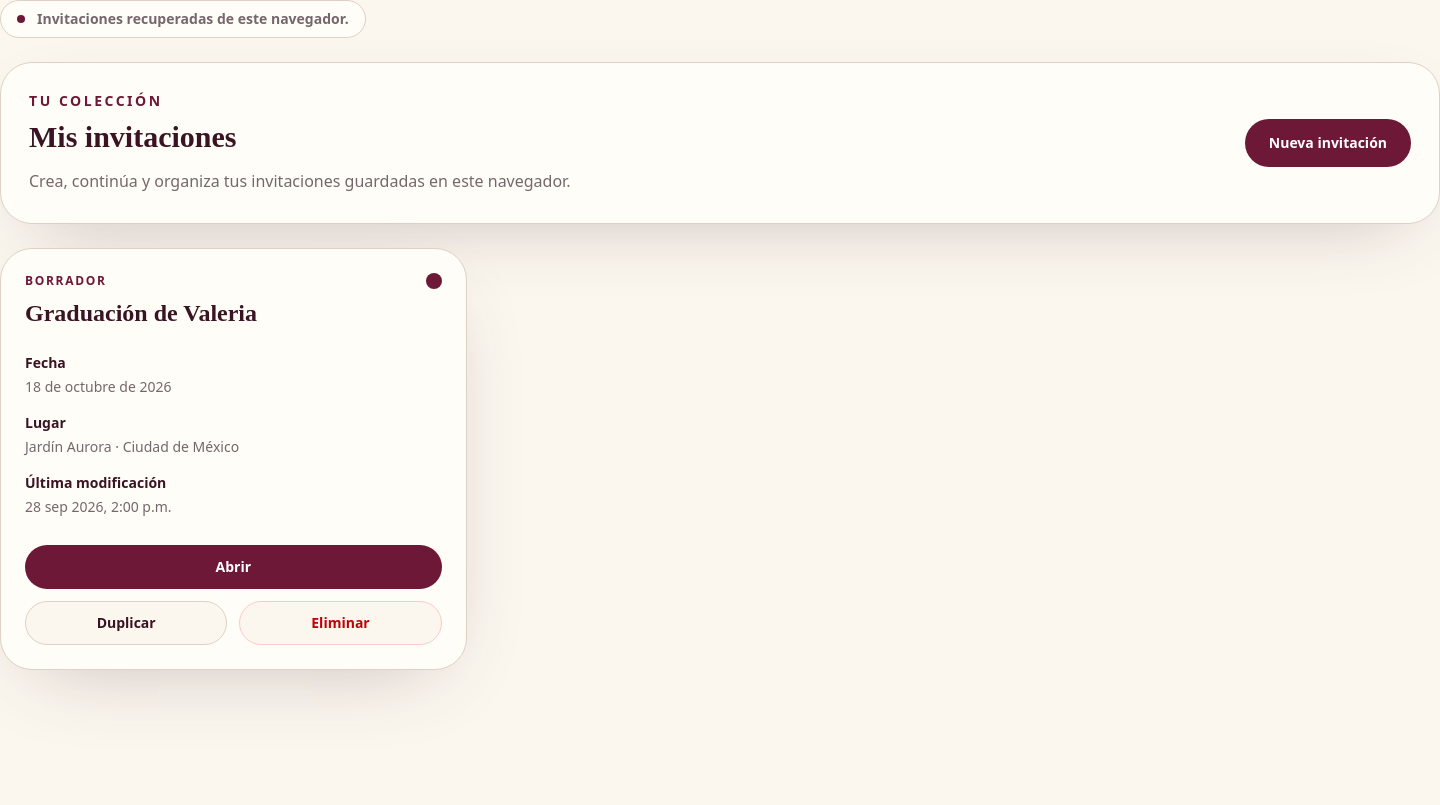
Test: InvitationProjectLibraryWorkspace › restores and opens a previously saved project
This screenshot has width=1440, height=805.
Check: the heading "Graduación de Valeria" is shown, box [25,297,257,329]
Check: the message named "Estado de la biblioteca" reads "Invitaciones recuperadas de este navegador.", box [37,9,349,28]
What coordinates should you click on to do the following:
click the button with aria-label "Abrir Graduación de Valeria"
I would click on:
 (233, 567)
Its box is [25,545,442,589].
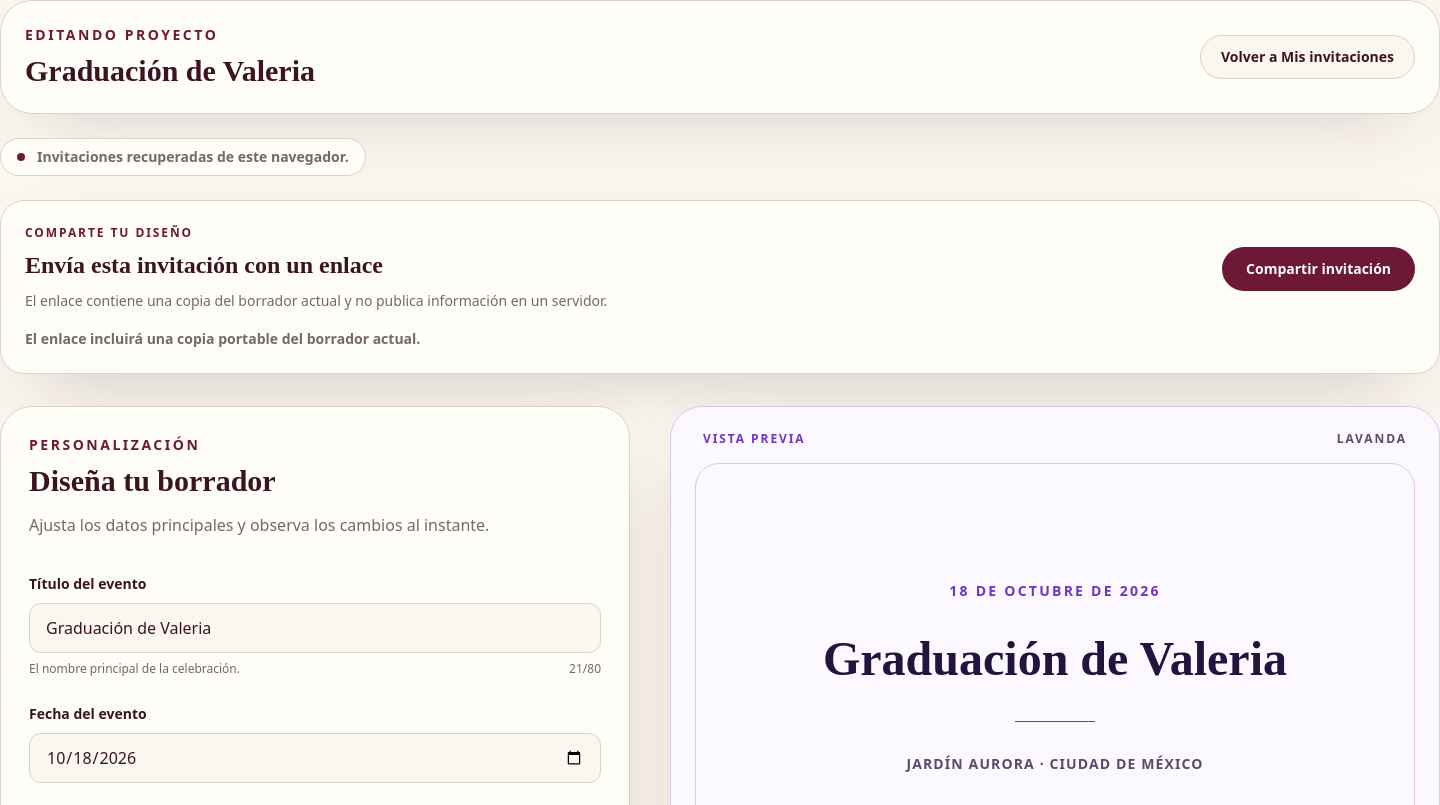
Check: the field labelled "Título del evento" holds "Graduación de Valeria", box [29,603,601,653]
